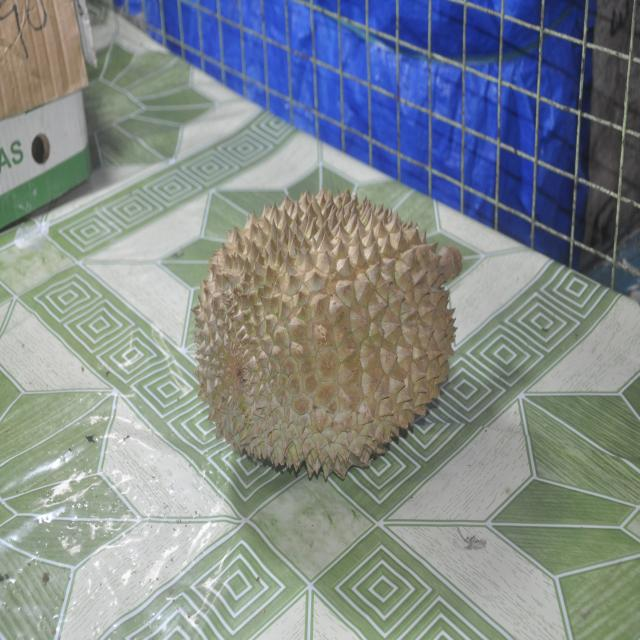mature: (192, 190, 462, 478)
